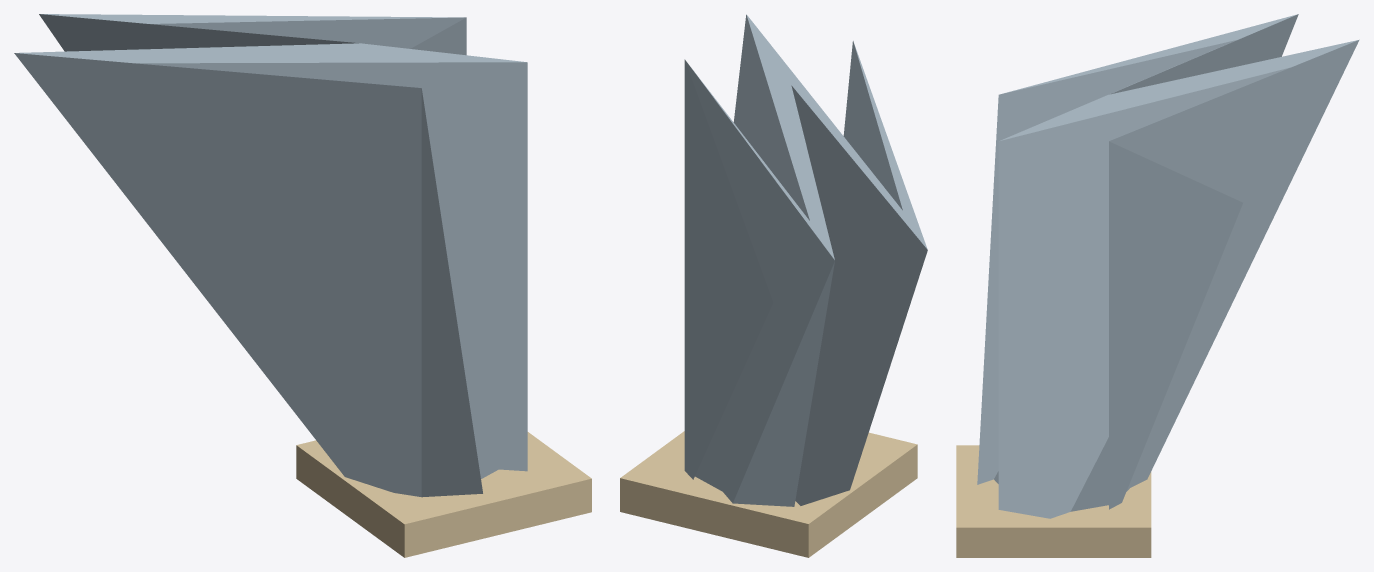
The model's file is PROP_BrokenColumn.fbx.
3 views of the same model, side by side, from view 1: azimuth 30°, elevation 25°; view 2: azimuth 150°, elevation 25°; view 3: azimuth 270°, elevation 25° (orthographic). The views are drawn at different scales.
Parts seen in each view (by area): view 1: PROP_BrokenColumn, PROP_BrokenColumn_Base; view 2: PROP_BrokenColumn, PROP_BrokenColumn_Base; view 3: PROP_BrokenColumn, PROP_BrokenColumn_Base.
Boxes of the visible parts, left/top/right/bottom form: PROP_BrokenColumn: left=14, top=14, right=527, bottom=497; PROP_BrokenColumn_Base: left=296, top=432, right=591, bottom=557; PROP_BrokenColumn: left=684, top=14, right=927, bottom=506; PROP_BrokenColumn_Base: left=620, top=431, right=917, bottom=557; PROP_BrokenColumn: left=977, top=14, right=1359, bottom=518; PROP_BrokenColumn_Base: left=956, top=445, right=1151, bottom=557.
Bounding box in the file's own units: 145 × 158 × 145.
